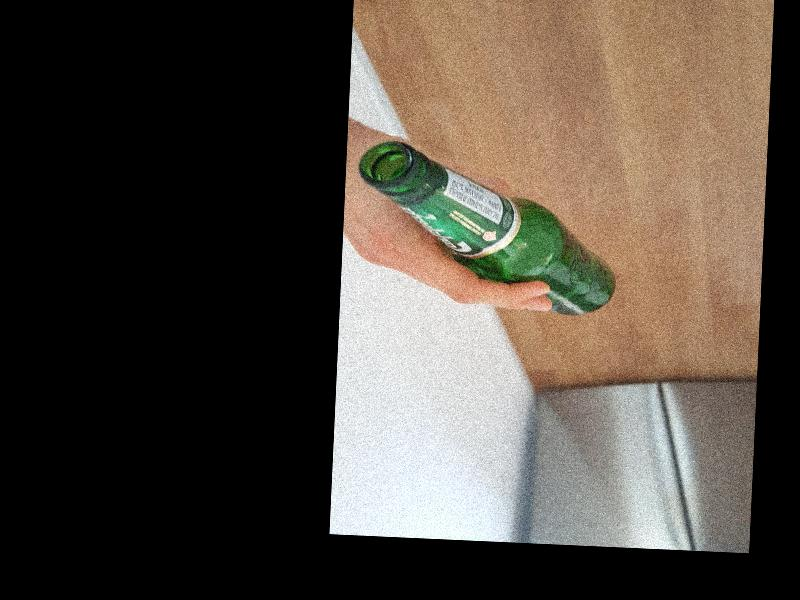Beer: (351, 138, 621, 316)
